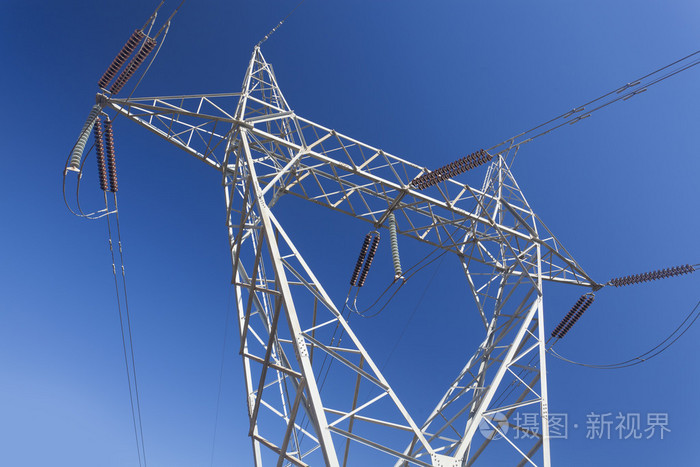insulator: (97, 32, 153, 93), (413, 152, 492, 191), (70, 104, 100, 169), (93, 120, 119, 192), (551, 297, 593, 339), (350, 232, 380, 287), (608, 266, 697, 283), (387, 213, 405, 274)
